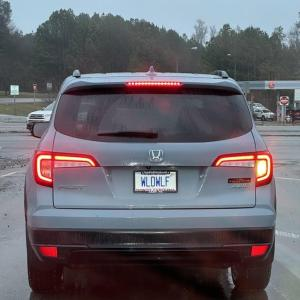Plate: (133, 170, 178, 194)
